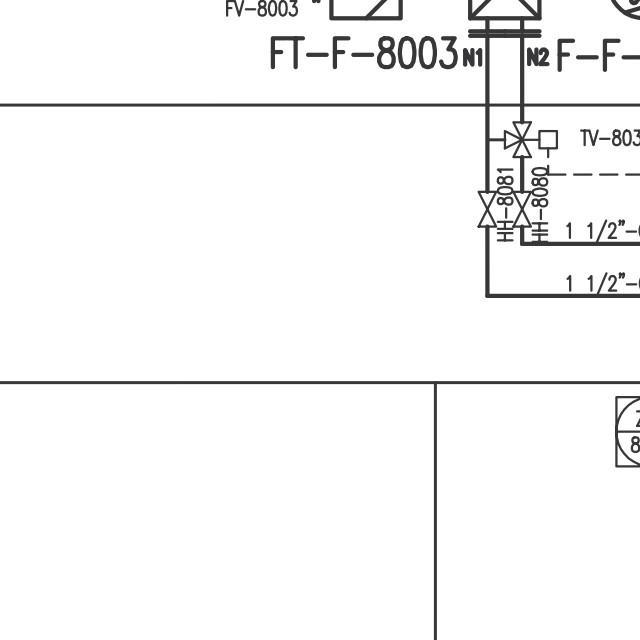3W: (500, 119, 531, 160)
GV: (473, 188, 498, 229), (509, 187, 531, 231)
